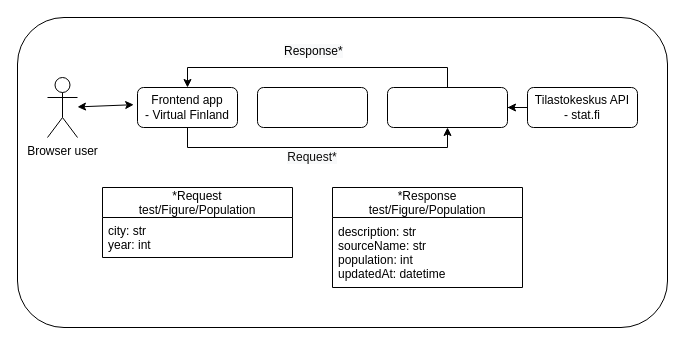
This 685x345 diagram has some shape labels left out. The shapes that lost their labels are listed below. From the top down, each one's centre as x and y in pixels, then its label:
pixel 312 107: Testbed API GW - testbed.fi
pixel 447 107: Productizer API App - Virtual Finland
